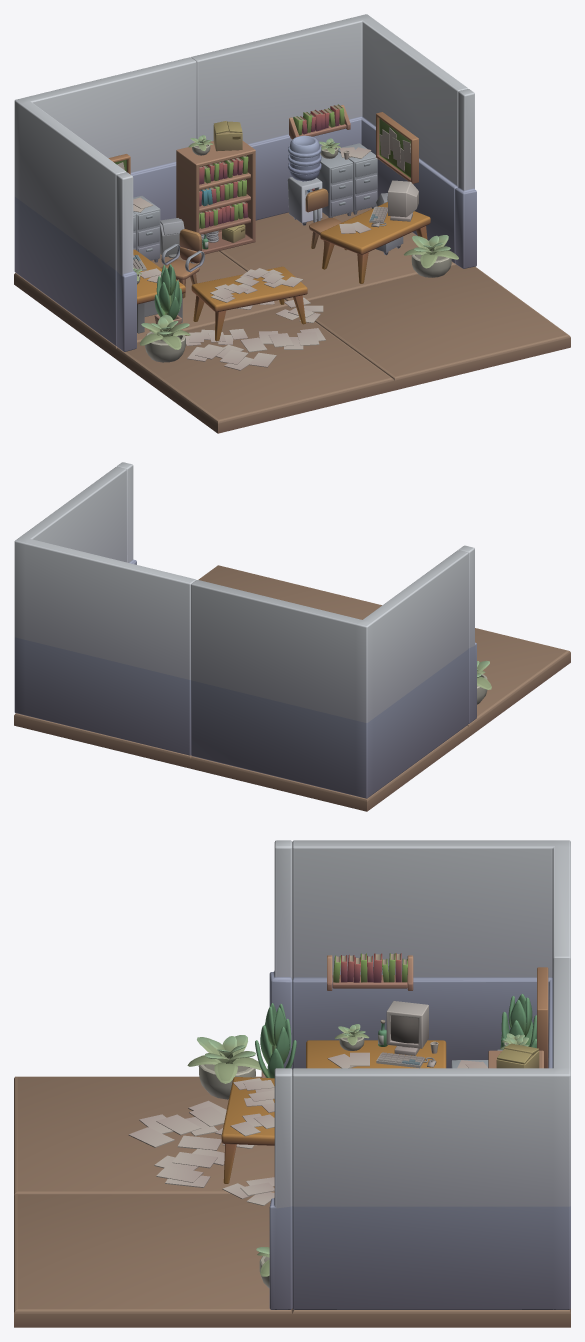
The model's file is cartoon_office.glb.
3 views of the same model, one above another, from view 1: azimuth 30°, elevation 25°; view 2: azimuth 150°, elevation 25°; view 3: azimuth 270°, elevation 25° (orthographic). The views are drawn at different scales.
Visible parts, largest first — view 1: wall-angle.001, wall-angle.002, wall-angle-2.003, wall-angle-2.007, box.005, table.002, table.007, box.012, box.014, plant.005, plant.002, chair.003 (+15 smaller); view 2: wall-angle.002, wall-angle.001, wall-angle-2.007, wall-angle-2.003; view 3: wall-angle.001, wall-angle.002, wall-angle-2.003, wall-angle-2.007, plant.005, computer.001, table.007, many-papers.006, table.006, many-papers.007, plant.003, plant.010 (+6 smaller).
Boxes of the visible parts, bbox=[...] form: wall-angle.001: bbox=[191, 14, 468, 300]; wall-angle.002: bbox=[14, 57, 287, 358]; wall-angle-2.003: bbox=[295, 89, 570, 390]; wall-angle-2.007: bbox=[116, 172, 394, 433]; box.005: bbox=[176, 141, 255, 254]; table.002: bbox=[320, 202, 430, 283]; table.007: bbox=[191, 266, 307, 341]; box.012: bbox=[287, 135, 322, 225]; box.014: bbox=[316, 152, 353, 217]; plant.005: bbox=[139, 314, 190, 362]; plant.002: bbox=[404, 235, 458, 277]; chair.003: bbox=[160, 229, 204, 298]; wall-angle.002: bbox=[190, 550, 468, 811]; wall-angle.001: bbox=[14, 467, 195, 768]; wall-angle-2.007: bbox=[458, 545, 570, 736]; wall-angle-2.003: bbox=[116, 462, 381, 619]; wall-angle.001: bbox=[292, 958, 570, 1327]; wall-angle.002: bbox=[292, 840, 570, 1069]; wall-angle-2.003: bbox=[14, 1068, 292, 1327]; wall-angle-2.007: bbox=[14, 840, 292, 1195]; plant.005: bbox=[187, 1035, 261, 1099]; computer.001: bbox=[376, 1001, 436, 1068]; table.007: bbox=[221, 1077, 274, 1183]; many-papers.006: bbox=[154, 1135, 234, 1187]; table.006: bbox=[306, 1040, 446, 1068]; many-papers.007: bbox=[128, 1100, 226, 1147]; plant.003: bbox=[255, 1003, 296, 1078]; plant.010: bbox=[500, 994, 536, 1049].
Bounding box in the file's own units: 20 × 10.01 × 20.
